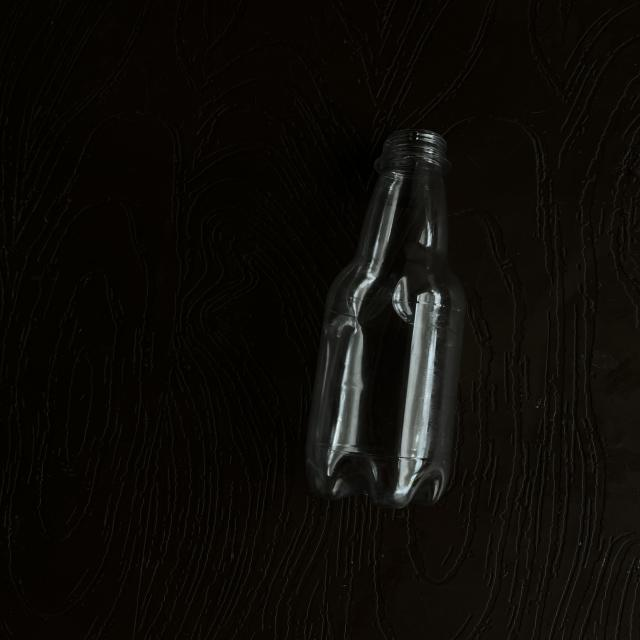PET_ClearBottle: (292, 129, 490, 507)
